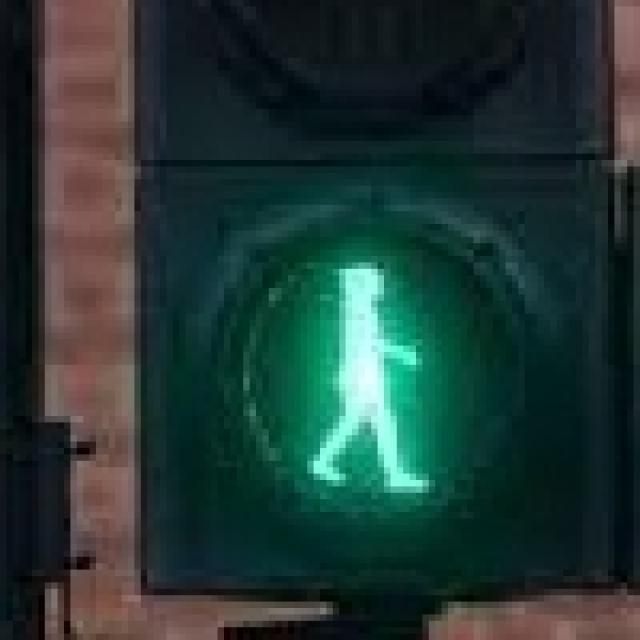geen-crossing: (288, 243, 442, 512)
